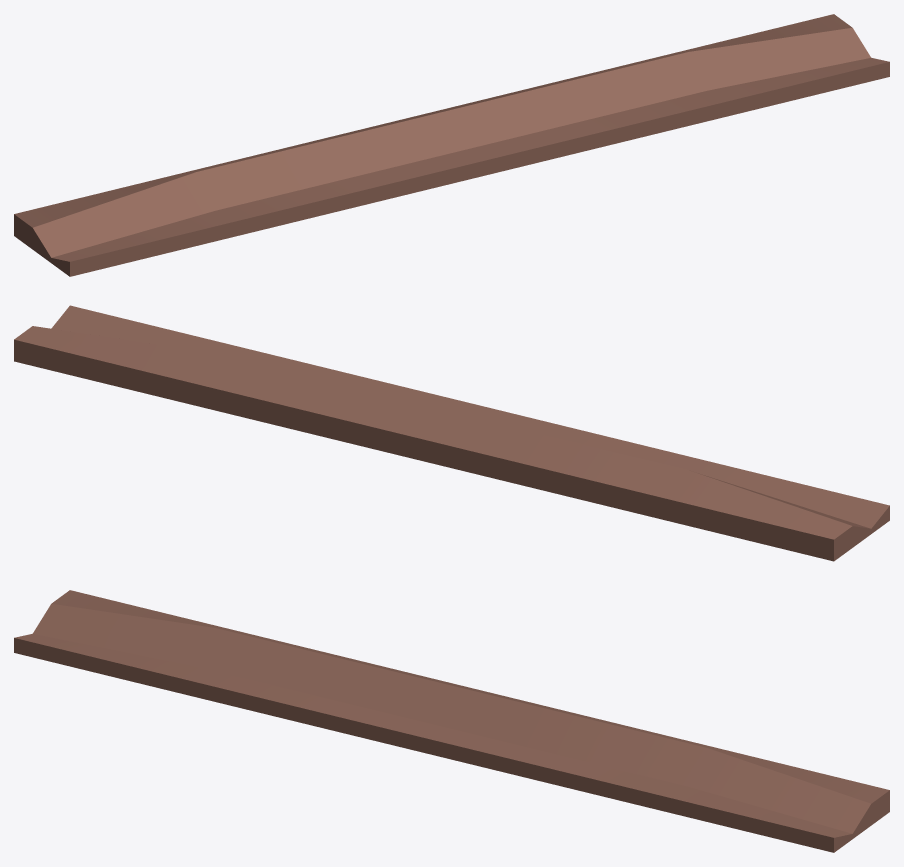
File: SM_Wooden_Plank_Dark_01.fbx
3 views of the same model, one above another, from view 1: azimuth 30°, elevation 25°; view 2: azimuth 150°, elevation 25°; view 3: azimuth 330°, elevation 25° (orthographic).
Visible parts, largest first — view 1: Wooden_Plank_Dark_01; view 2: Wooden_Plank_Dark_01; view 3: Wooden_Plank_Dark_01.
Boxes of the visible parts, x1=… form: Wooden_Plank_Dark_01: x1=14, y1=14, x2=889, y2=276; Wooden_Plank_Dark_01: x1=14, y1=305, x2=889, y2=561; Wooden_Plank_Dark_01: x1=14, y1=590, x2=889, y2=852.
Size of the model in its own units: 116 by 5.08 by 13.68.
